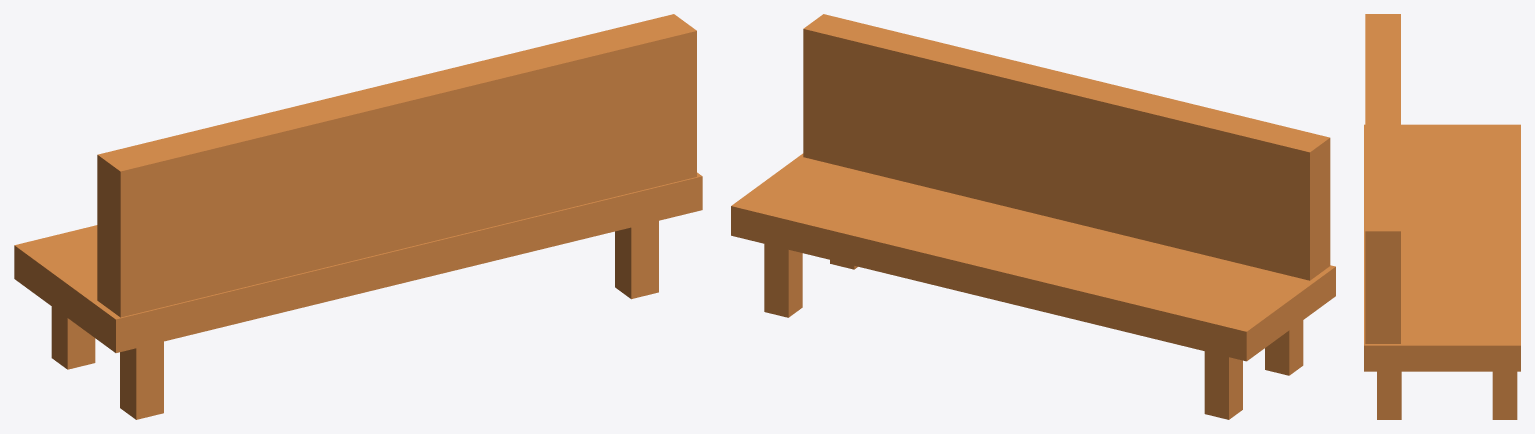
Rendered from lawka.fbx.
3 renders of one model, left to right at view 1: azimuth 30°, elevation 25°; view 2: azimuth 150°, elevation 25°; view 3: azimuth 270°, elevation 25°, orthographic. The views are drawn at different scales.
Visible parts, largest first — view 1: Cube.005, Cube, Cube.001, Cube.003, Cube.004; view 2: Cube.005, Cube, Cube.002, Cube.004, Cube.003; view 3: Cube, Cube.005, Cube.002, Cube.001.
Part boxes in pixels (<box>): Cube.005: <box>97,14,696,317</box>; Cube: <box>14,172,702,352</box>; Cube.001: <box>615,221,658,299</box>; Cube.003: <box>120,341,163,419</box>; Cube.004: <box>51,306,95,369</box>; Cube.005: <box>803,14,1330,280</box>; Cube: <box>731,153,1335,361</box>; Cube.002: <box>764,244,802,317</box>; Cube.004: <box>1204,351,1242,419</box>; Cube.003: <box>1265,320,1303,375</box>; Cube: <box>1364,124,1520,371</box>; Cube.005: <box>1365,14,1400,343</box>; Cube.002: <box>1492,371,1517,419</box>; Cube.001: <box>1377,371,1401,419</box>.
Size of the model in its own units: 382 by 161 by 114.
